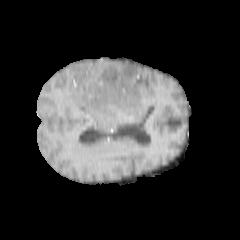glioma: (65, 62, 154, 119)
